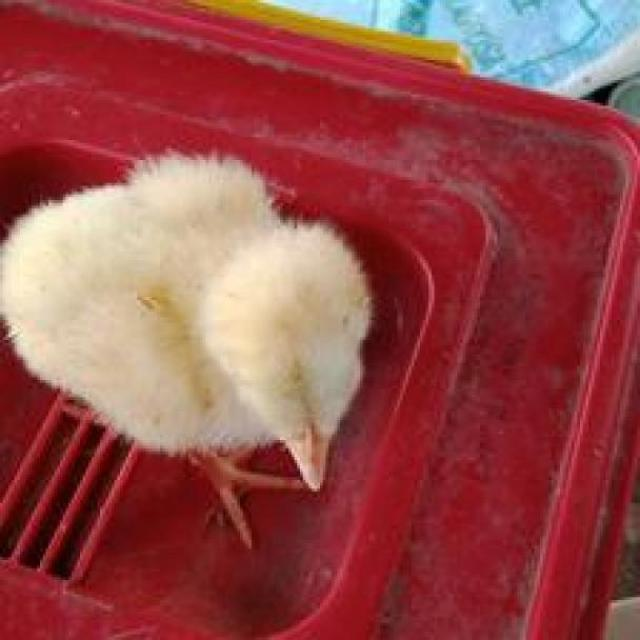Chicken: (21, 163, 415, 535)
